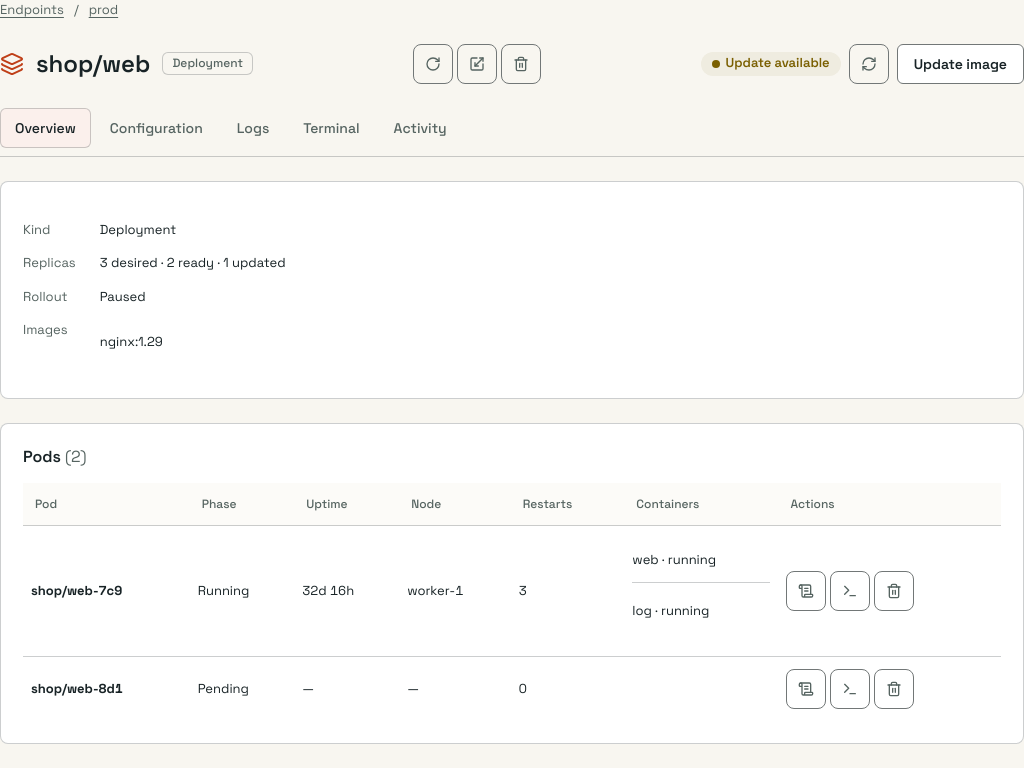
Scenario: offers Update image to an admin on an unmanaged workload and shows the sent command waiting
Click the button "Update image" at (960, 64), box [897, 44, 1023, 84]
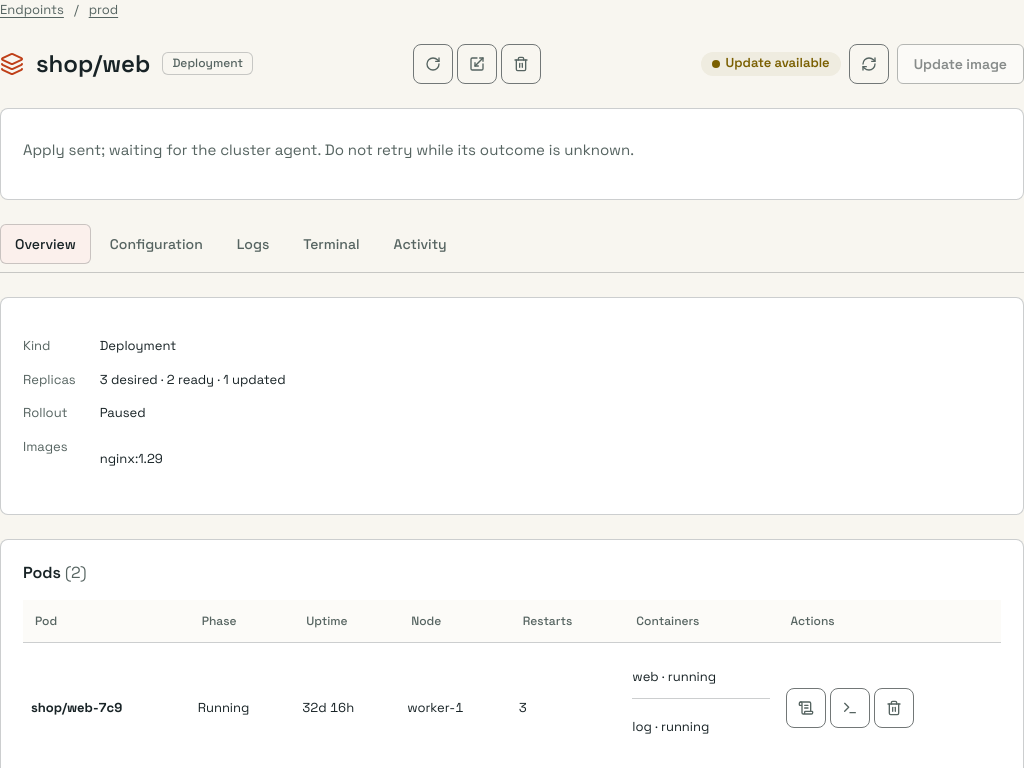
Expected: the element named "Last change" shows "waiting for the cluster agent", [23, 140, 634, 158]
Expected: the button "Update image" is disabled, [897, 44, 1023, 84]
